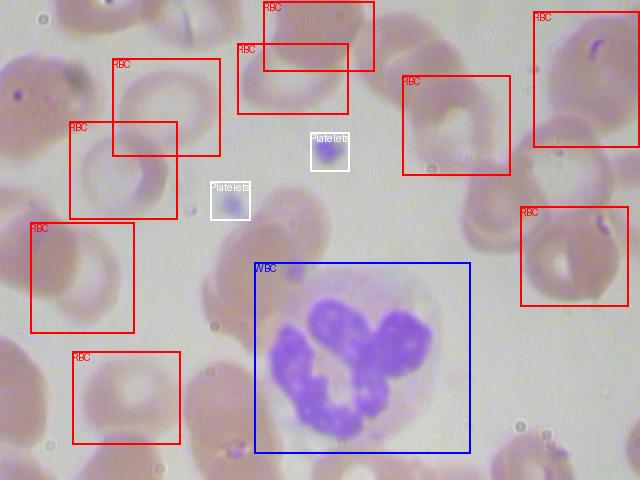Platelets: (210, 181, 250, 220), (310, 132, 349, 171)
RBC: (533, 11, 639, 147), (30, 222, 134, 333), (520, 206, 628, 306), (402, 75, 510, 175), (112, 58, 220, 156), (69, 121, 177, 219), (72, 351, 180, 444), (237, 43, 348, 114), (263, 1, 374, 71)
WBC: (254, 262, 470, 453)
